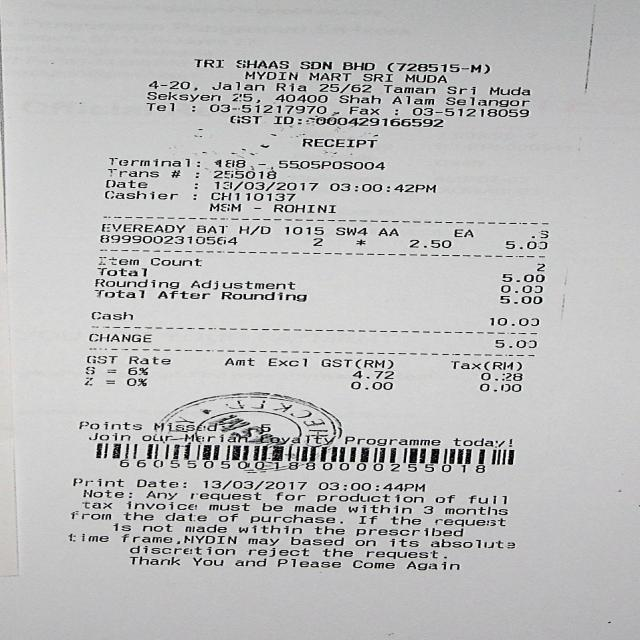text: (272, 115, 442, 128), (100, 234, 235, 244), (208, 103, 324, 114), (386, 62, 489, 74), (411, 107, 527, 117), (120, 534, 234, 544), (99, 221, 183, 234), (129, 545, 234, 555), (190, 280, 294, 290), (201, 480, 305, 490), (214, 181, 316, 191), (299, 135, 377, 148), (282, 160, 383, 170), (315, 493, 421, 502), (344, 436, 439, 446), (354, 528, 461, 536), (220, 291, 305, 301), (429, 538, 514, 548), (444, 97, 528, 107), (94, 279, 178, 289), (108, 157, 190, 167), (250, 514, 341, 523), (208, 192, 294, 201), (145, 92, 219, 102), (153, 421, 220, 432), (103, 190, 176, 200), (364, 550, 445, 559), (319, 359, 391, 369), (449, 360, 520, 370), (258, 436, 332, 445), (276, 558, 340, 568), (189, 492, 260, 501), (212, 169, 275, 179), (125, 501, 195, 510), (238, 524, 300, 534), (348, 504, 409, 514), (182, 434, 249, 443), (328, 182, 388, 192), (451, 438, 511, 448), (272, 204, 335, 213), (87, 333, 150, 342), (78, 421, 141, 430), (434, 518, 504, 526), (444, 506, 506, 515), (234, 59, 288, 69), (212, 81, 264, 91), (382, 84, 434, 94), (290, 536, 342, 546), (405, 560, 457, 570), (319, 83, 370, 93), (106, 168, 157, 178), (147, 80, 196, 90), (375, 482, 424, 492), (272, 95, 326, 104), (248, 548, 308, 556), (278, 224, 325, 234), (157, 290, 209, 299), (134, 479, 185, 488), (128, 556, 179, 565), (72, 478, 122, 487), (318, 482, 368, 491), (243, 72, 297, 80), (337, 94, 379, 104), (68, 510, 110, 520), (150, 258, 200, 266), (94, 290, 144, 298), (488, 318, 538, 326), (96, 268, 145, 276), (82, 490, 131, 498), (307, 72, 350, 81), (477, 383, 520, 392), (104, 179, 146, 188), (408, 239, 450, 248), (350, 370, 392, 379), (212, 158, 243, 170), (404, 74, 445, 83), (393, 184, 434, 193), (480, 372, 521, 381), (294, 503, 335, 512), (183, 524, 224, 533), (165, 512, 205, 521), (68, 533, 107, 542), (501, 274, 544, 282), (493, 340, 536, 348), (467, 495, 505, 504), (498, 296, 540, 304), (90, 312, 132, 320), (128, 356, 170, 364), (298, 60, 331, 70), (236, 224, 269, 234), (505, 241, 546, 249), (500, 285, 541, 293), (207, 502, 248, 510), (352, 560, 393, 568), (488, 87, 528, 95), (392, 96, 432, 104), (336, 226, 368, 236), (98, 256, 137, 264), (192, 224, 223, 234), (191, 556, 222, 566), (267, 358, 305, 366), (348, 382, 391, 389), (144, 490, 176, 499), (87, 433, 128, 440), (192, 59, 222, 68), (348, 106, 378, 115), (230, 115, 260, 124), (210, 203, 240, 212), (224, 357, 254, 366), (274, 492, 304, 501), (314, 526, 344, 535), (445, 86, 474, 95), (341, 62, 373, 70), (231, 94, 259, 103), (144, 102, 172, 111), (361, 74, 391, 82), (274, 83, 304, 91), (140, 434, 170, 442), (121, 512, 151, 520), (390, 516, 420, 524), (142, 524, 172, 532), (388, 538, 418, 546), (322, 548, 352, 556), (234, 558, 264, 566), (86, 356, 116, 363), (80, 502, 110, 509), (247, 538, 277, 545), (454, 228, 474, 238), (376, 227, 397, 236), (433, 495, 454, 503), (126, 367, 146, 375), (126, 378, 146, 386), (260, 503, 280, 511), (112, 522, 129, 531), (217, 513, 236, 521), (357, 516, 375, 524), (353, 539, 373, 546), (310, 237, 322, 247), (538, 230, 551, 239), (422, 506, 432, 514), (354, 239, 364, 246), (536, 263, 544, 271), (83, 377, 91, 385), (85, 367, 93, 374), (107, 369, 115, 373), (106, 380, 113, 383), (393, 109, 396, 115)
